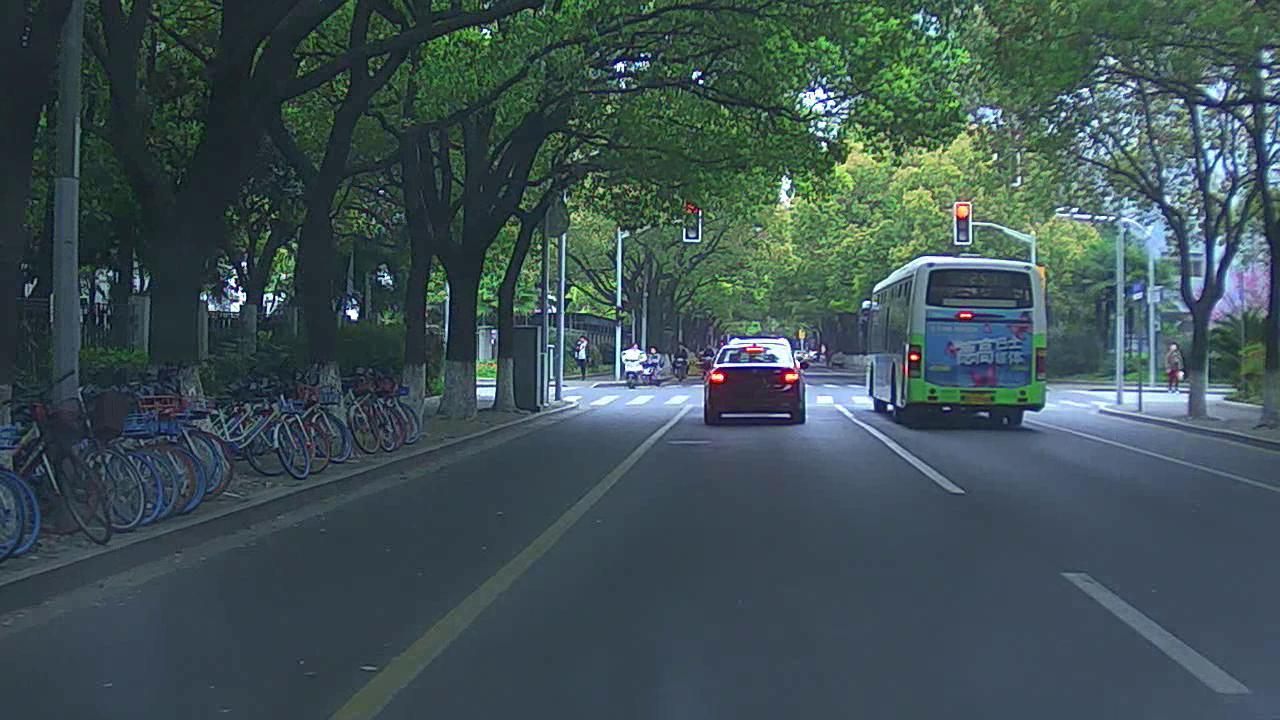traffic_light: (954, 198, 976, 245)
